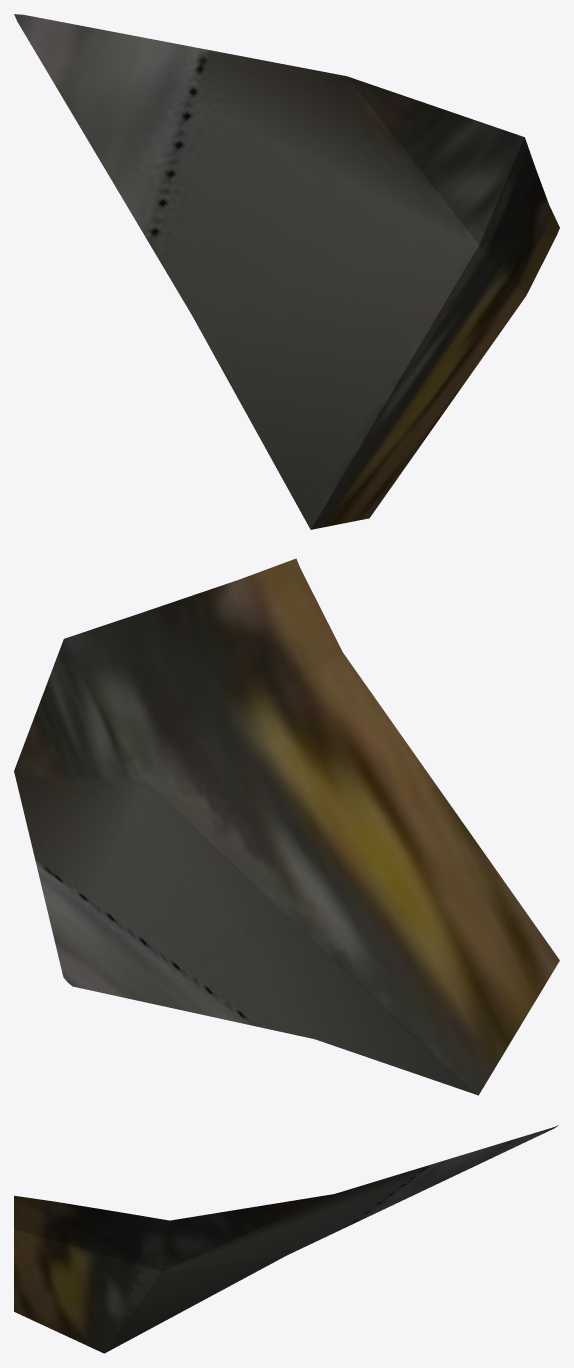
3 renders of one model, top to bottom at view 1: azimuth 30°, elevation 25°; view 2: azimuth 150°, elevation 25°; view 3: azimuth 270°, elevation 25°, orthographic. The views are drawn at different scales.
Bounding box in the file's own units: 0.2305 × 0.256 × 0.5523.
Materials: 1 (1 with a texture image).
